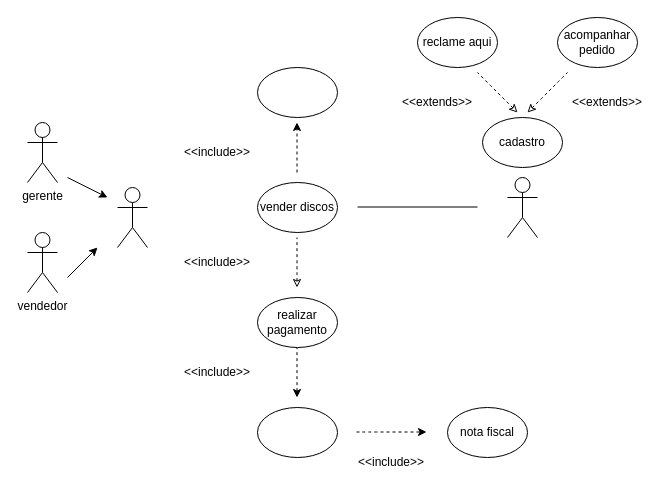
Image size: 659x495. Some labels were removed from this diagram. The shapes that lost their labels are listed below. From the top down, each one's centre as x and y in pixels, then its label:
At (297,92): "consultar estoque".
At (132,217): "funcionário".
At (522,207): "cliente".
At (297,432): "realizar envio".
